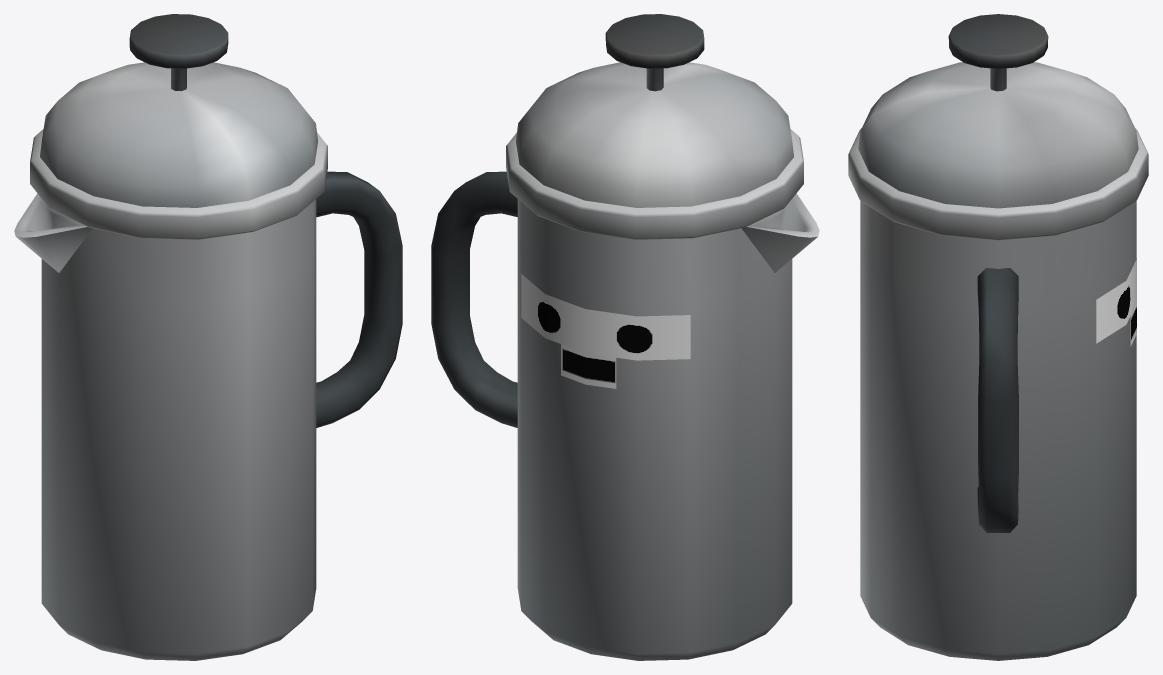
Rendered from french_press_smile.fbx.
3 views of the same model, side by side, from view 1: azimuth 30°, elevation 25°; view 2: azimuth 150°, elevation 25°; view 3: azimuth 270°, elevation 25° (orthographic).
Visible parts, largest first — view 1: french_press_smile; view 2: french_press_smile; view 3: french_press_smile.
Part boxes in pixels (x1,y1,x2,y2): french_press_smile: [14, 14, 402, 660]; french_press_smile: [431, 14, 819, 660]; french_press_smile: [848, 14, 1148, 660].
Bounding box in the file's own units: 88.55 × 60.53 × 127.
